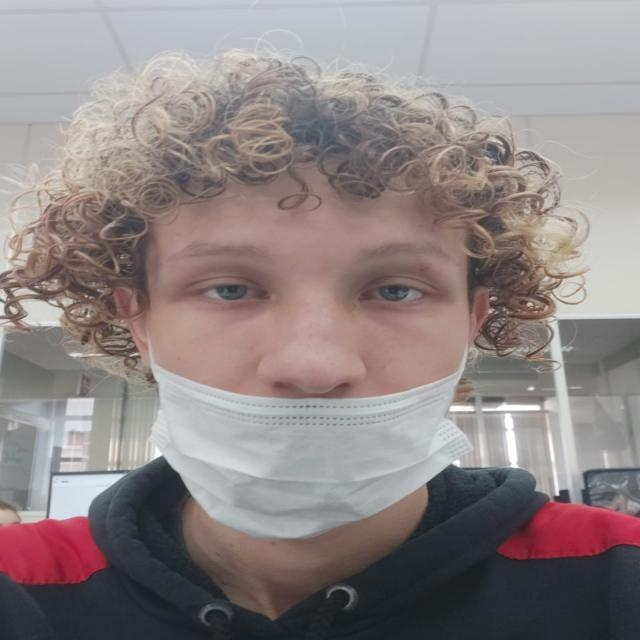hairnet: (157, 208, 455, 503)
